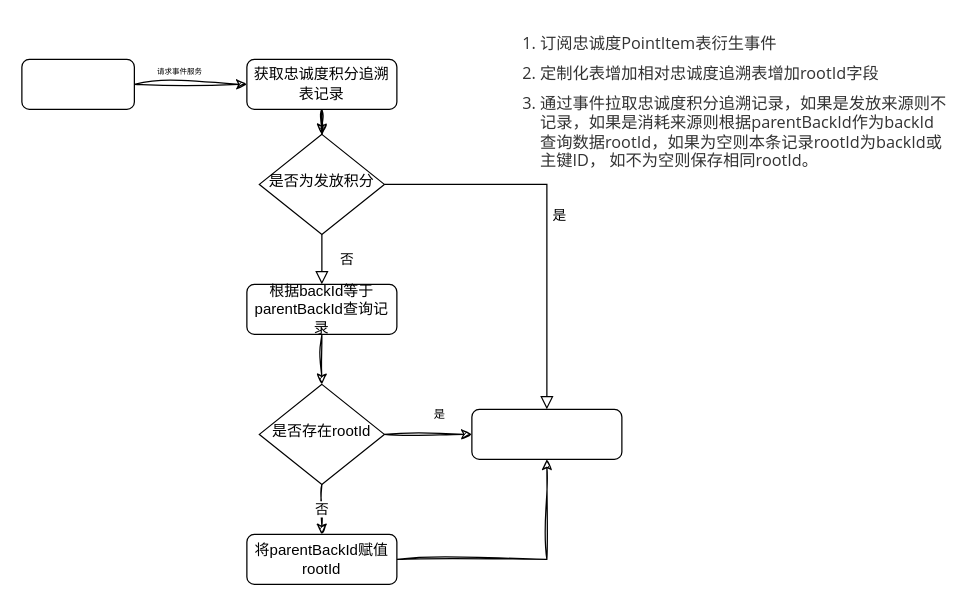
The diagram is 974 pixels wide and 606 high, and some of its shapes have lost their labels. Each missing label, with the centre of its shape:
保存定制表: the point at 546,433
定制服务: the point at 77,83
